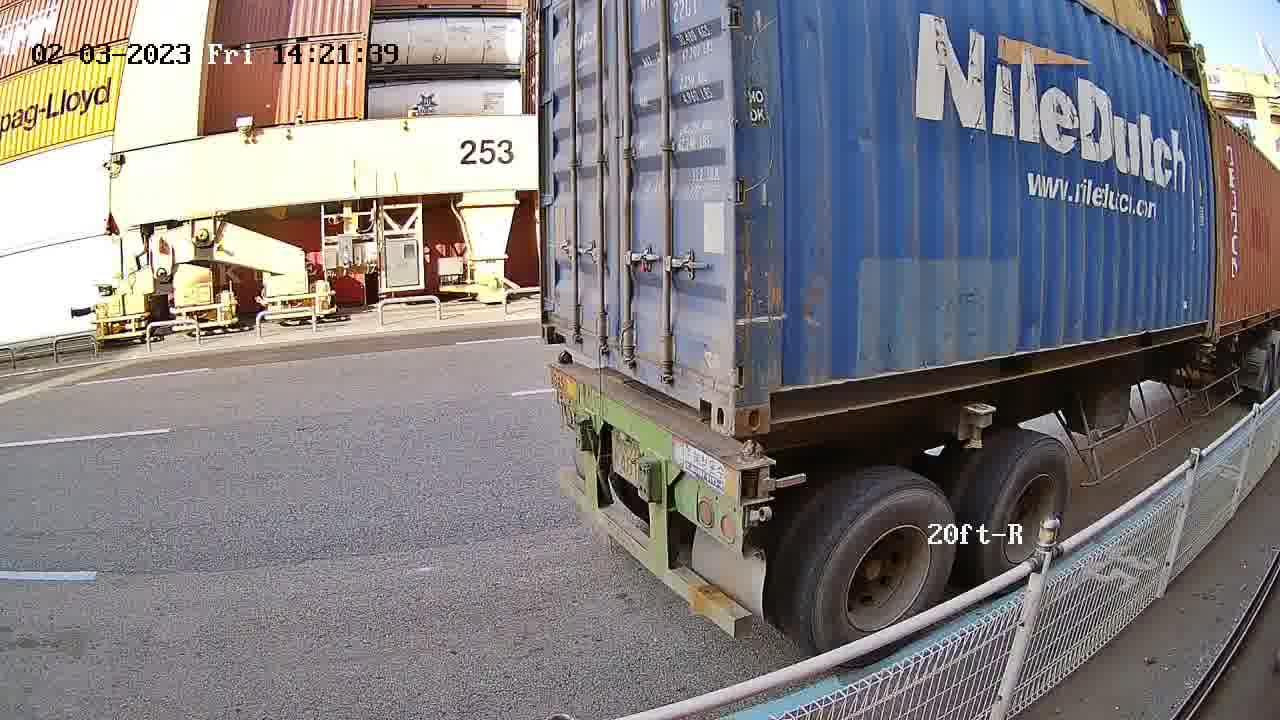Chassis: (551, 362, 777, 508)
Cone: (736, 440, 771, 501), (555, 351, 573, 366)
Hole_L: (735, 360, 805, 436), (542, 304, 571, 349)
Hole_R: (683, 344, 736, 439)
Tire: (809, 484, 962, 667), (985, 440, 1070, 593)
